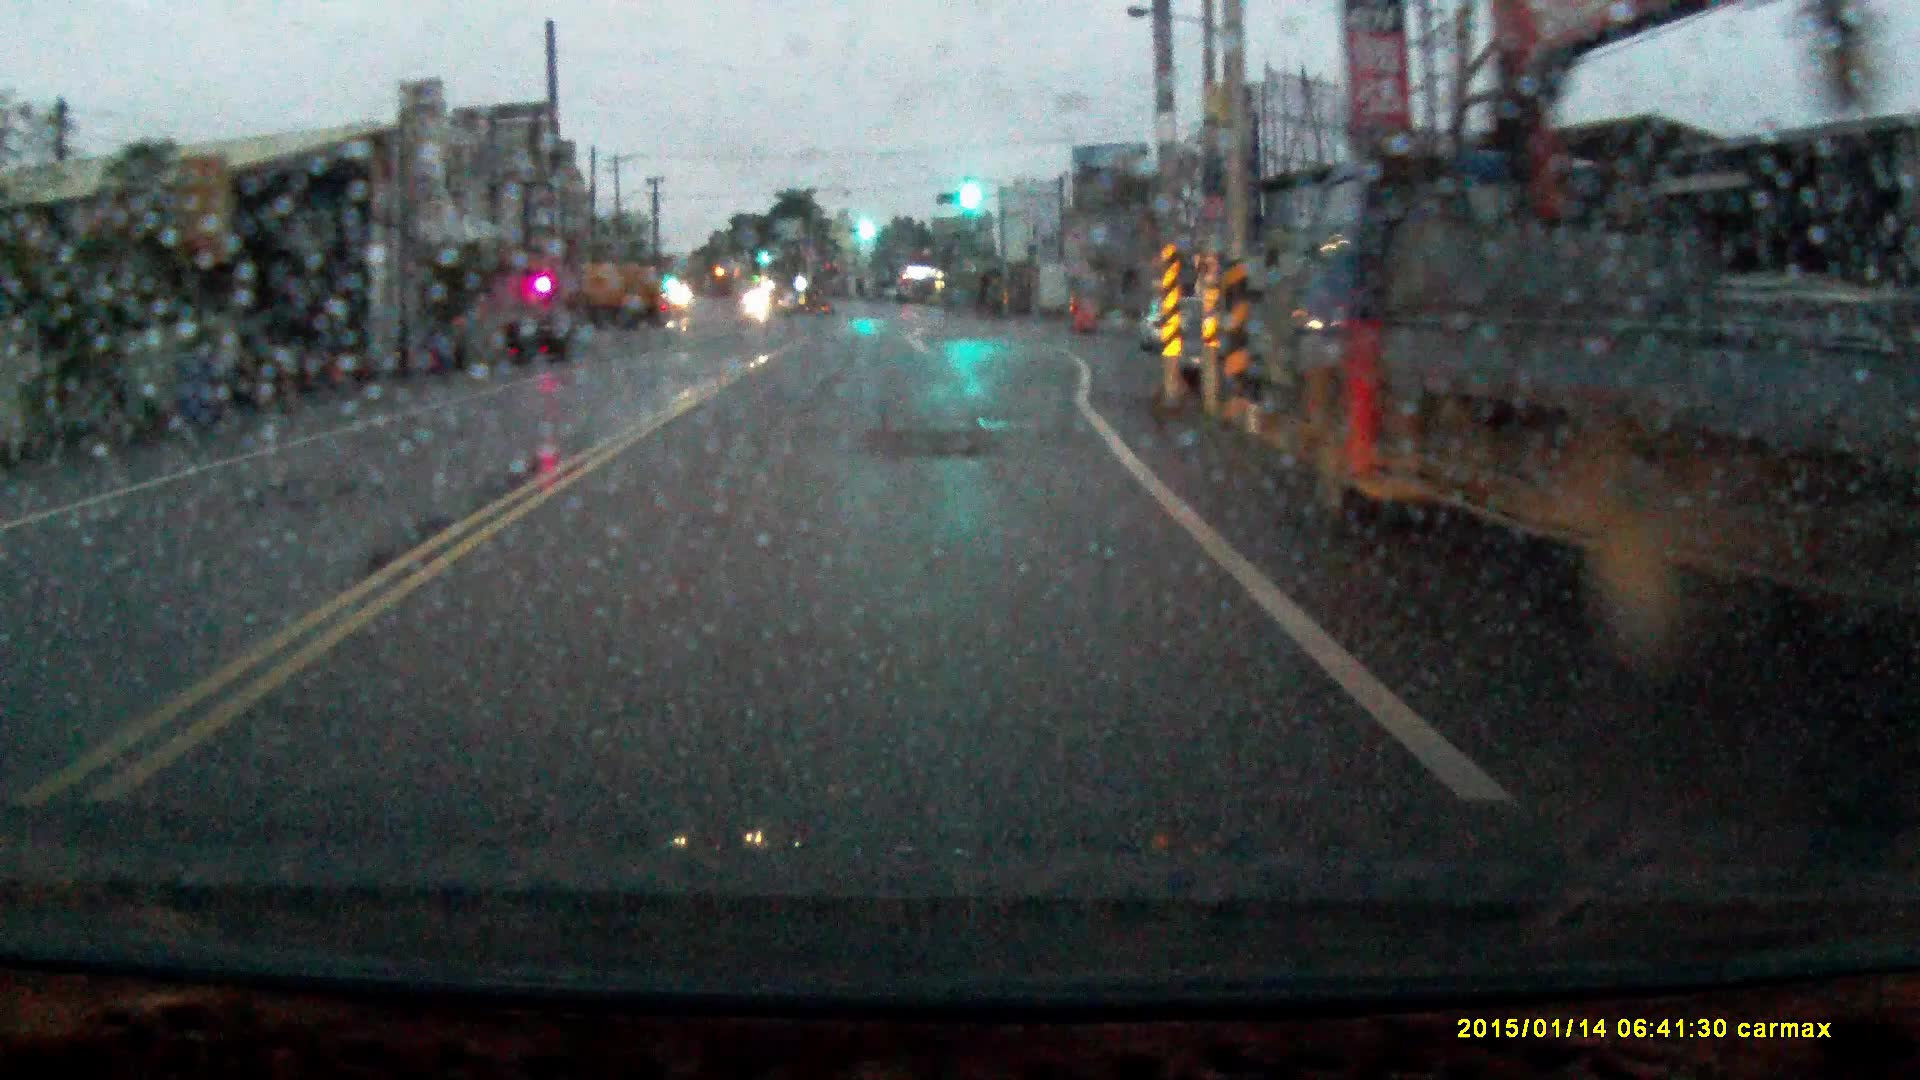vehicle: (1300, 144, 1920, 661), (553, 257, 663, 328), (502, 305, 591, 364)
